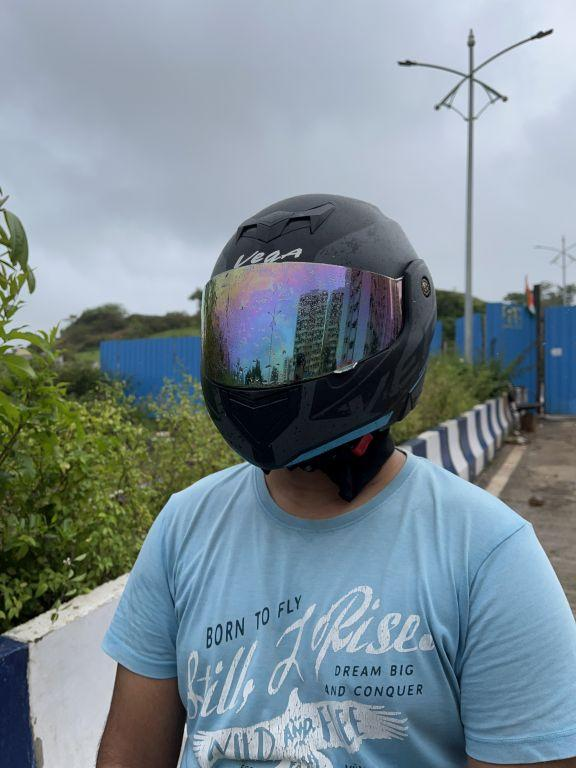helmet: (192, 179, 441, 490)
